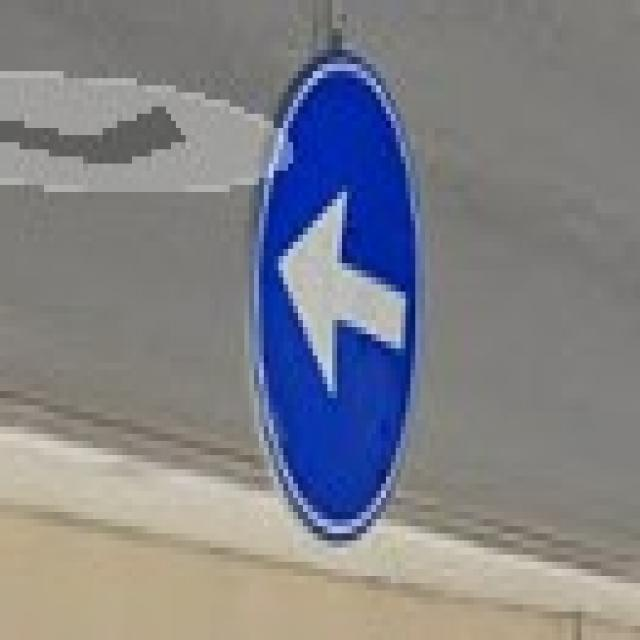Turn Left: (255, 61, 416, 538)
